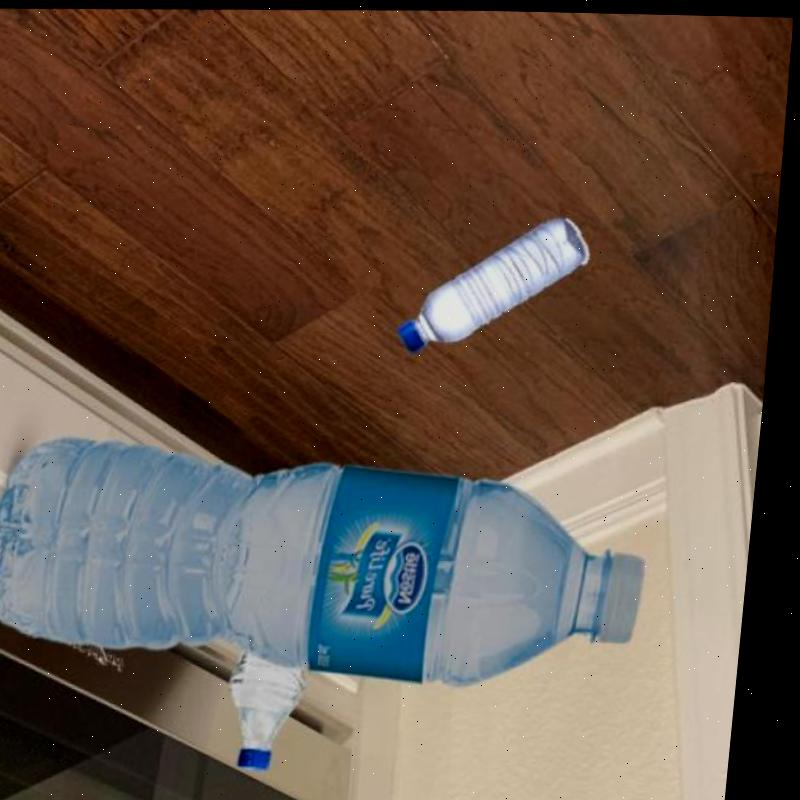botella: (0, 425, 668, 695), (403, 207, 597, 352), (234, 645, 321, 769)
